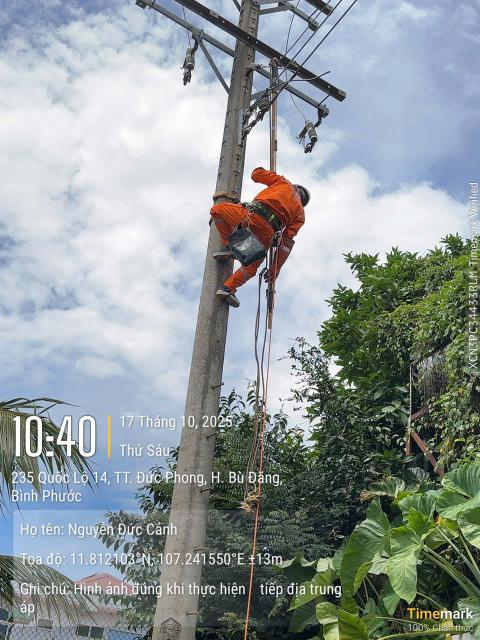gloves: (268, 223, 300, 294)
harness: (241, 200, 293, 245)
helmet: (286, 179, 320, 221)
shoes: (213, 282, 247, 318), (211, 241, 248, 261)
